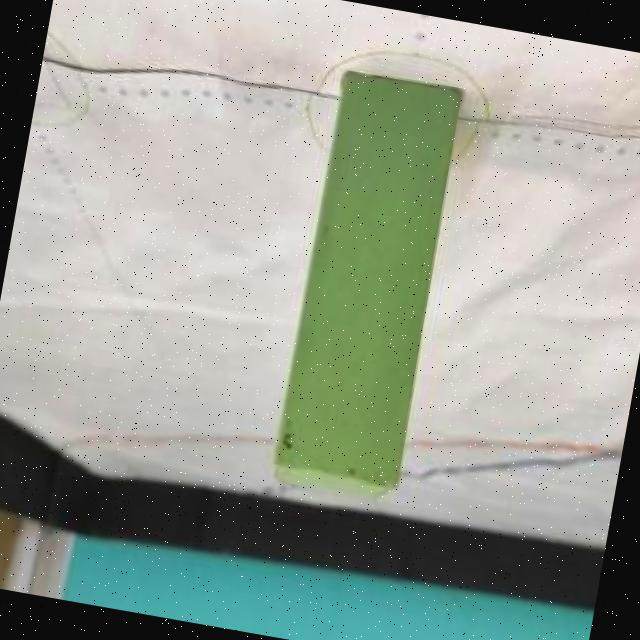greenbox: (266, 64, 468, 506)
